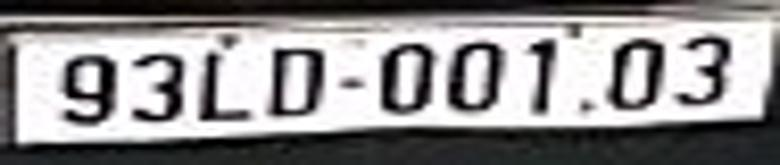-: (335, 75, 368, 93)
.: (574, 95, 599, 117)
0: (606, 36, 668, 114), (449, 39, 505, 114), (383, 42, 432, 116)
1: (524, 38, 557, 114)
3: (673, 32, 736, 111), (129, 53, 186, 126)
9: (58, 52, 121, 128)
D: (266, 42, 325, 118)
L: (197, 51, 256, 122)
